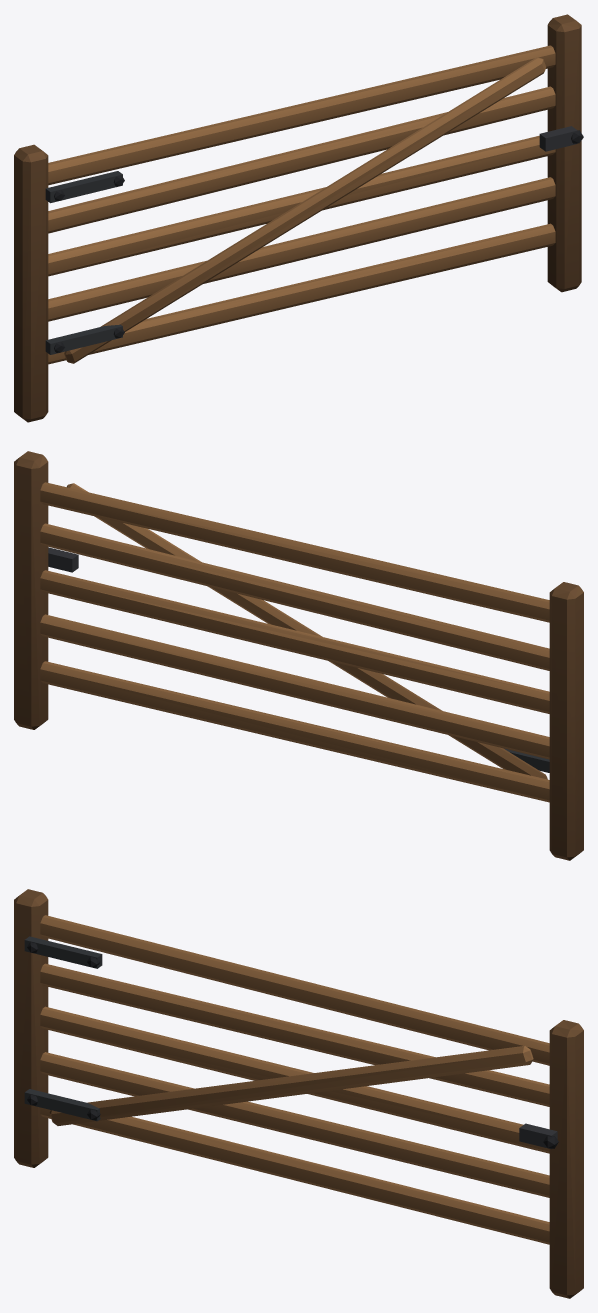
The model's file is farm-gate.glb.
3 renders of one model, top to bottom at view 1: azimuth 30°, elevation 25°; view 2: azimuth 150°, elevation 25°; view 3: azimuth 330°, elevation 25°, orthographic.
Parts seen in each view (by area): view 1: farm_gate; view 2: farm_gate; view 3: farm_gate.
Part boxes in pixels (x1,y1,x2,y2): farm_gate: (14,14,583,422); farm_gate: (14,451,583,860); farm_gate: (14,889,583,1298).
Bounding box in the file's own units: 2.62 × 1.2 × 0.1972.
